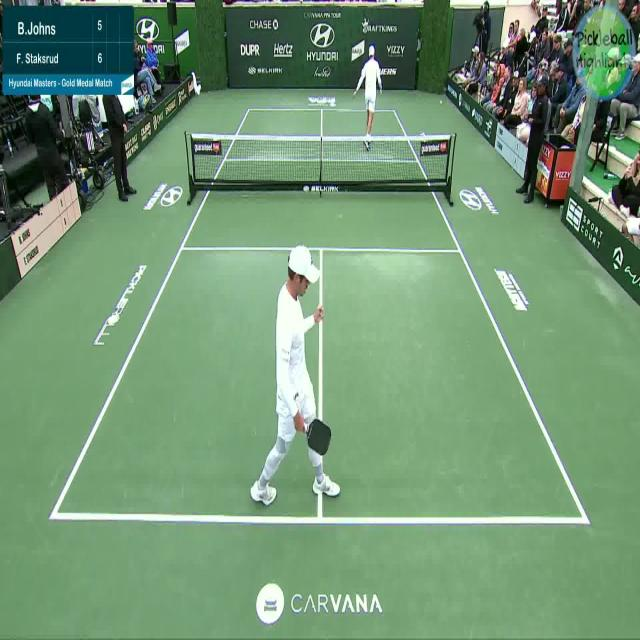Court: (50, 109, 587, 523)
ball: (437, 93, 447, 111)
